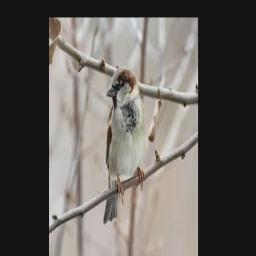Sparrow: (103, 67, 146, 223)
